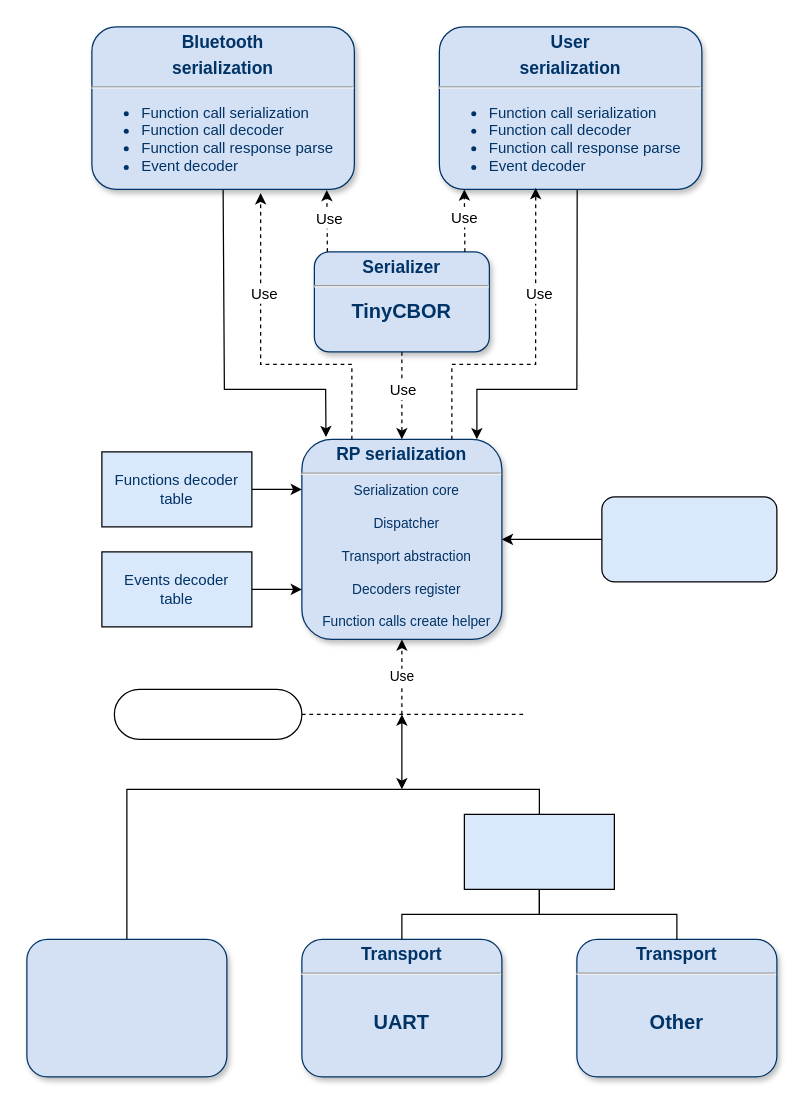
Image size: 806x1108. Some labels were removed from this diagram. Here are the shapes that lost their labels. From the top down, the centre of each, then its label:
At (x=689, y=539): "Logger abstraction".
At (x=207, y=713): "RP Transport API".
At (x=538, y=851): "Endpoint multiplexer".
At (x=127, y=1009): "Transport RPMsg".
